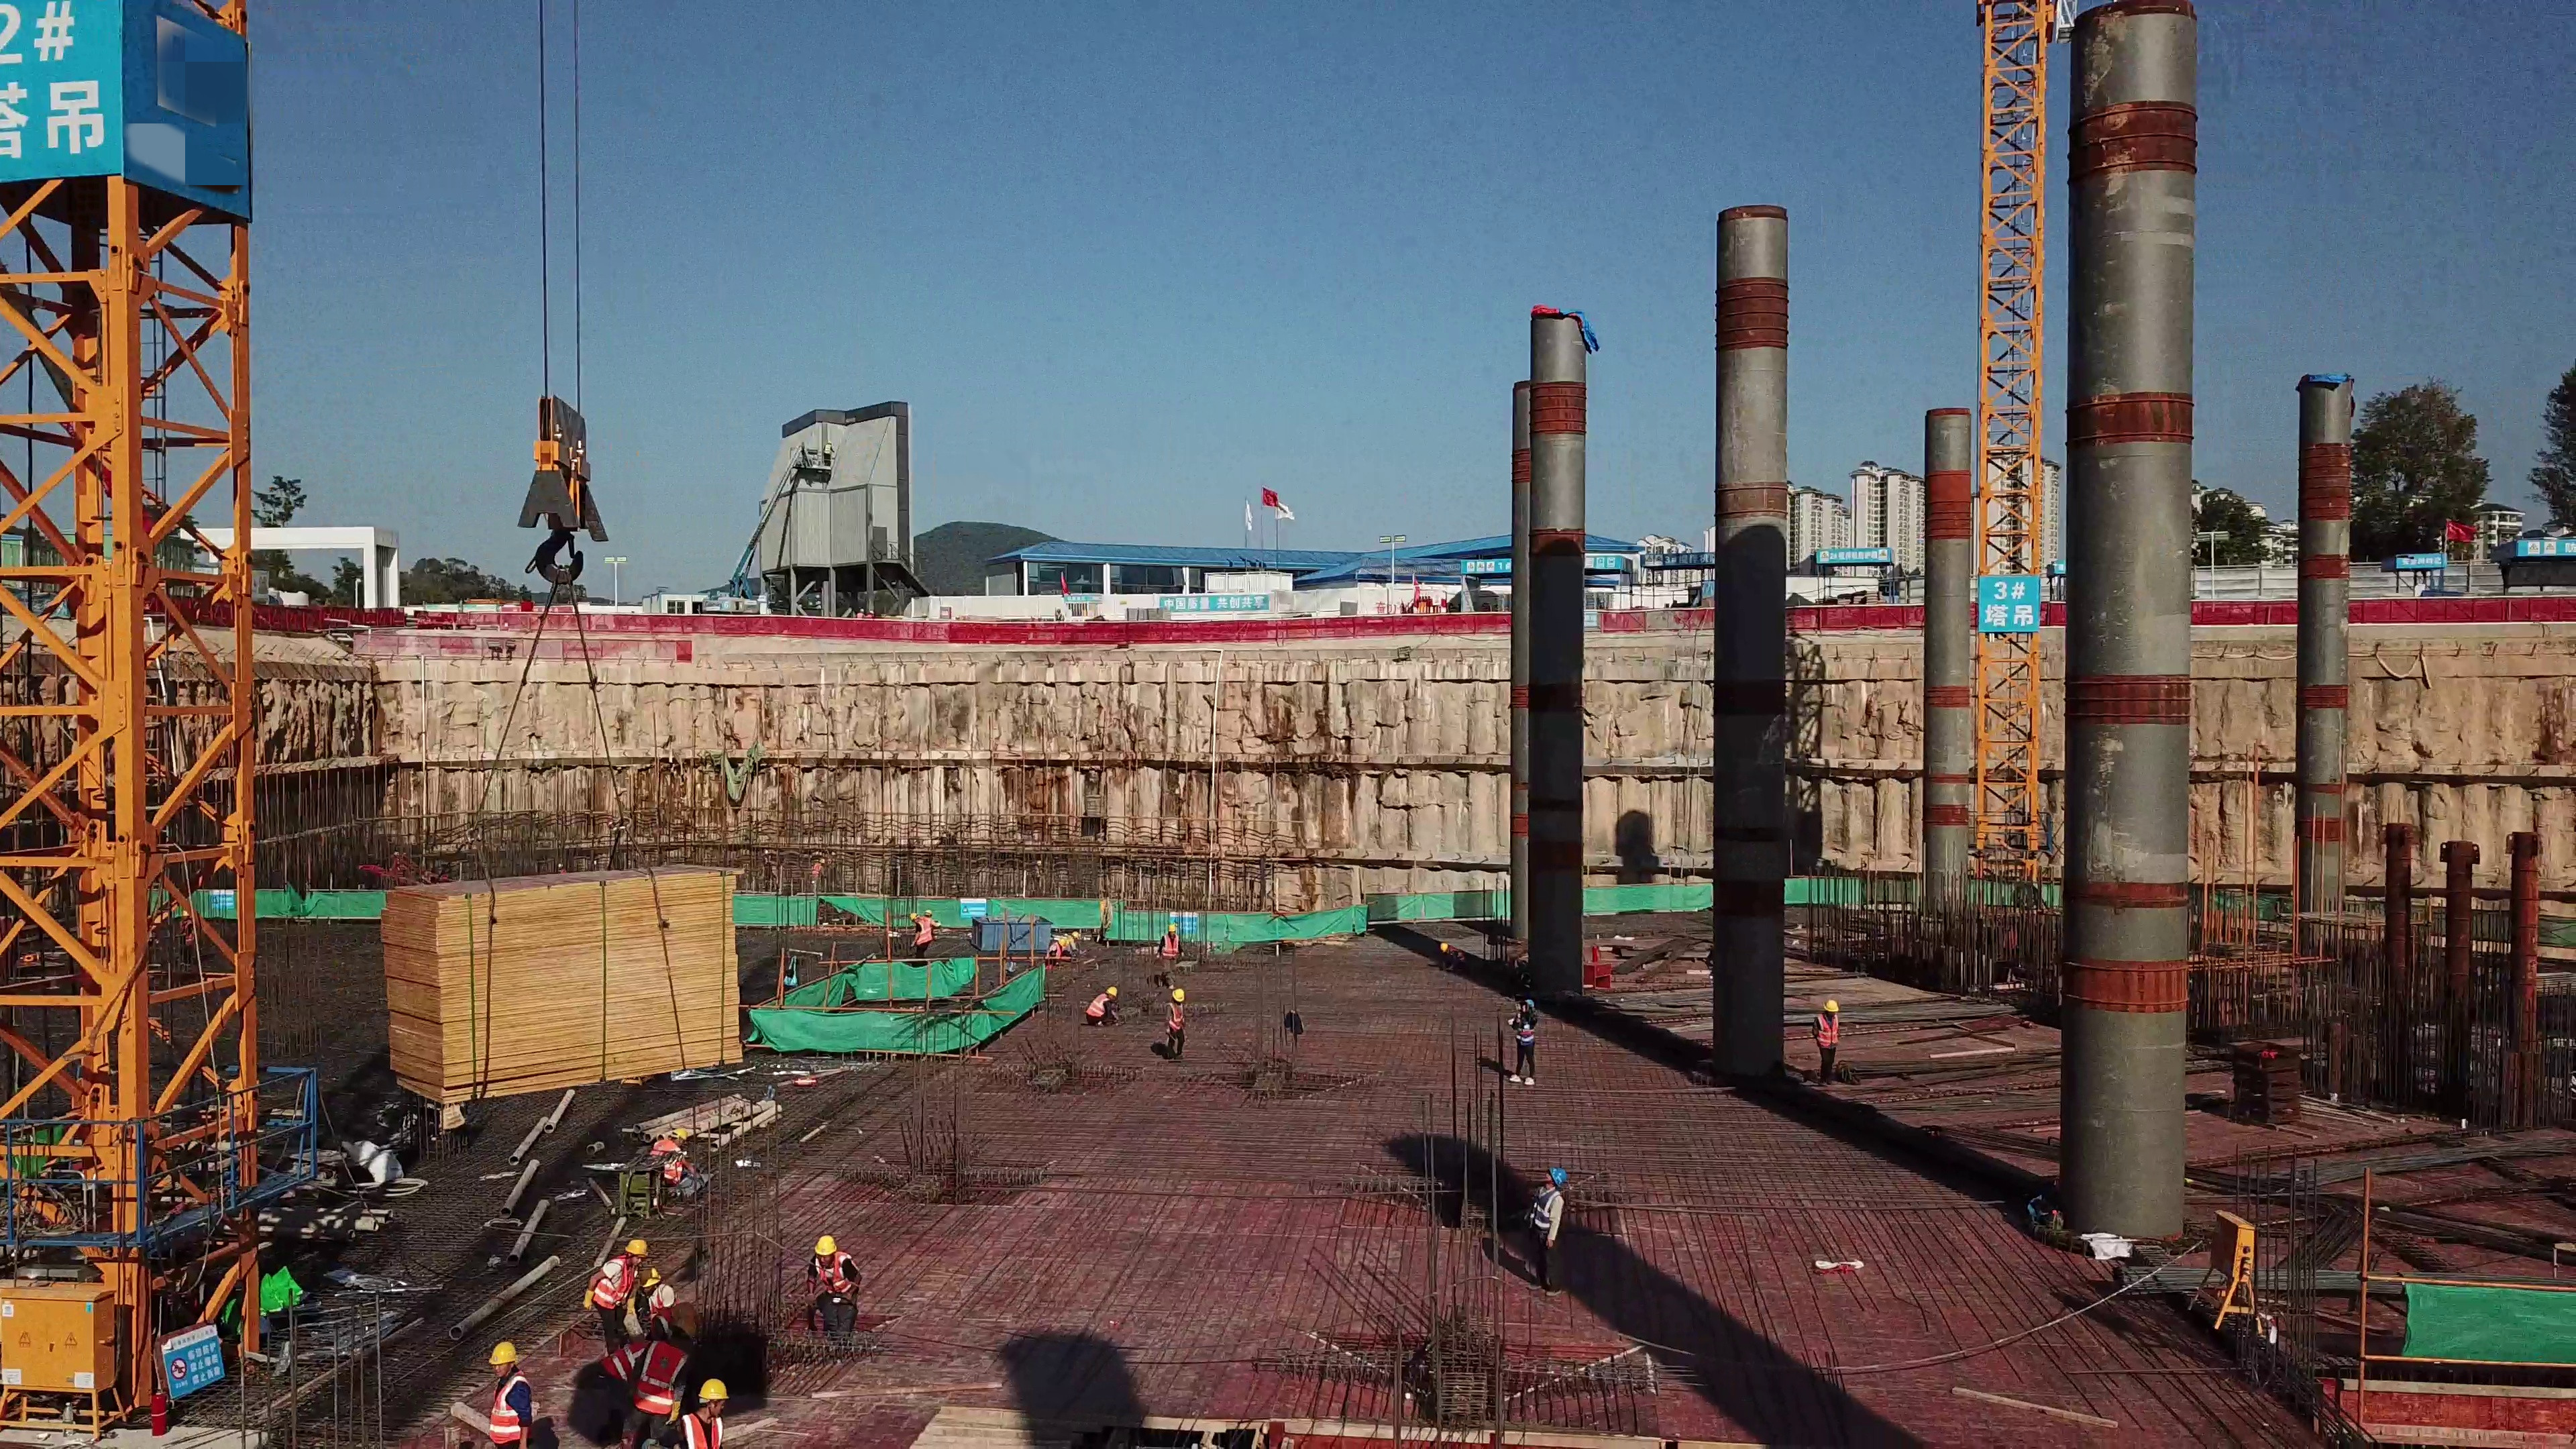helmet: (813, 1231, 845, 1256), (697, 1382, 730, 1402), (490, 1341, 520, 1359), (620, 1239, 649, 1256), (637, 1267, 661, 1288), (669, 1120, 688, 1144), (1548, 1164, 1571, 1184), (1822, 996, 1841, 1015), (1105, 983, 1120, 1000), (1172, 987, 1185, 1004), (1520, 1000, 1536, 1012), (1436, 943, 1450, 956), (1071, 931, 1085, 942), (1164, 923, 1177, 934), (905, 910, 917, 922), (1055, 936, 1067, 947)
person: (804, 1234, 871, 1360), (1518, 1163, 1570, 1313), (647, 1313, 698, 1447), (580, 1239, 645, 1342), (485, 1341, 538, 1449), (646, 1128, 708, 1192), (1807, 998, 1843, 1091), (1505, 993, 1542, 1088), (686, 1374, 729, 1449), (1159, 986, 1196, 1066), (903, 906, 947, 965), (1081, 983, 1126, 1032), (1154, 924, 1187, 987), (1436, 936, 1472, 981), (636, 1265, 675, 1302), (1071, 929, 1092, 959), (1045, 939, 1071, 958), (1051, 608, 1068, 624)
vest: (488, 1376, 538, 1448), (644, 1348, 676, 1413), (595, 1260, 634, 1313), (599, 1333, 647, 1371), (651, 1144, 690, 1190), (1525, 1189, 1563, 1236), (816, 1261, 855, 1300), (1817, 1016, 1843, 1047), (1087, 994, 1114, 1020), (1515, 1012, 1536, 1043), (1165, 1005, 1186, 1032), (1161, 934, 1181, 961), (917, 922, 933, 950), (1454, 945, 1470, 967)
